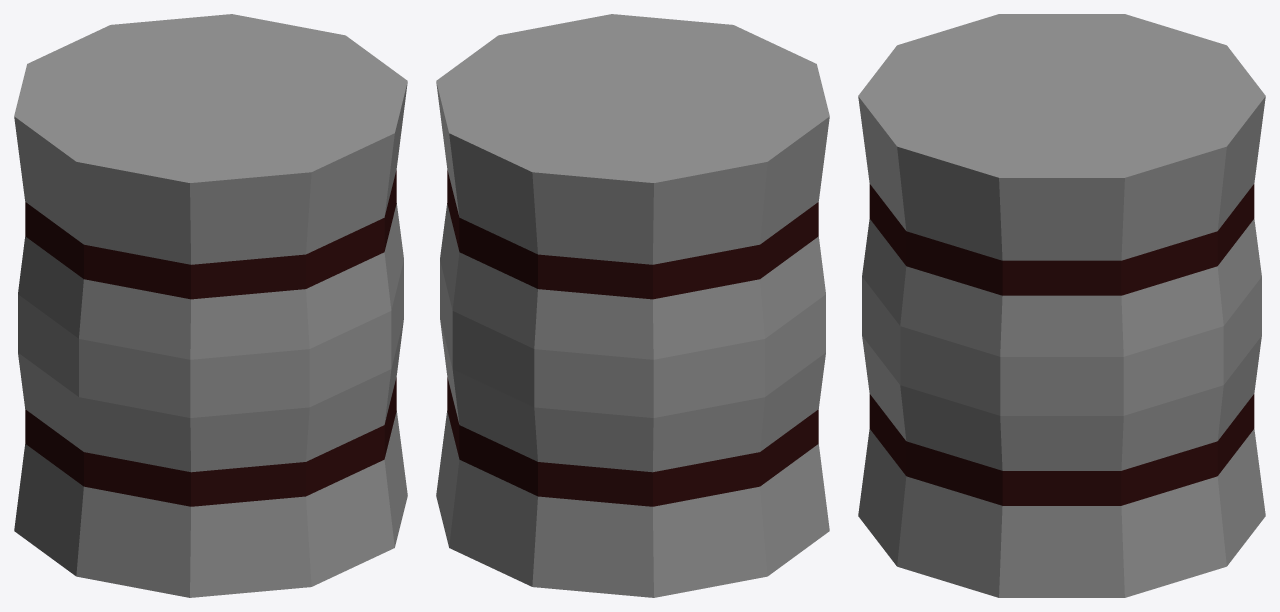
Rendered from bandage.glb.
The picture shows the model from 3 angles, left to right: view 1: azimuth 30°, elevation 25°; view 2: azimuth 150°, elevation 25°; view 3: azimuth 270°, elevation 25°; orthographic projection.
Parts seen in each view (by area): view 1: item_bandage; view 2: item_bandage; view 3: item_bandage.
Boxes of the visible parts, x1,y1,x2,y2 form: item_bandage: [14, 14, 407, 597]; item_bandage: [436, 14, 829, 597]; item_bandage: [858, 14, 1265, 597].
Size of the model in its own units: 0.092 by 0.11 by 0.0967.
